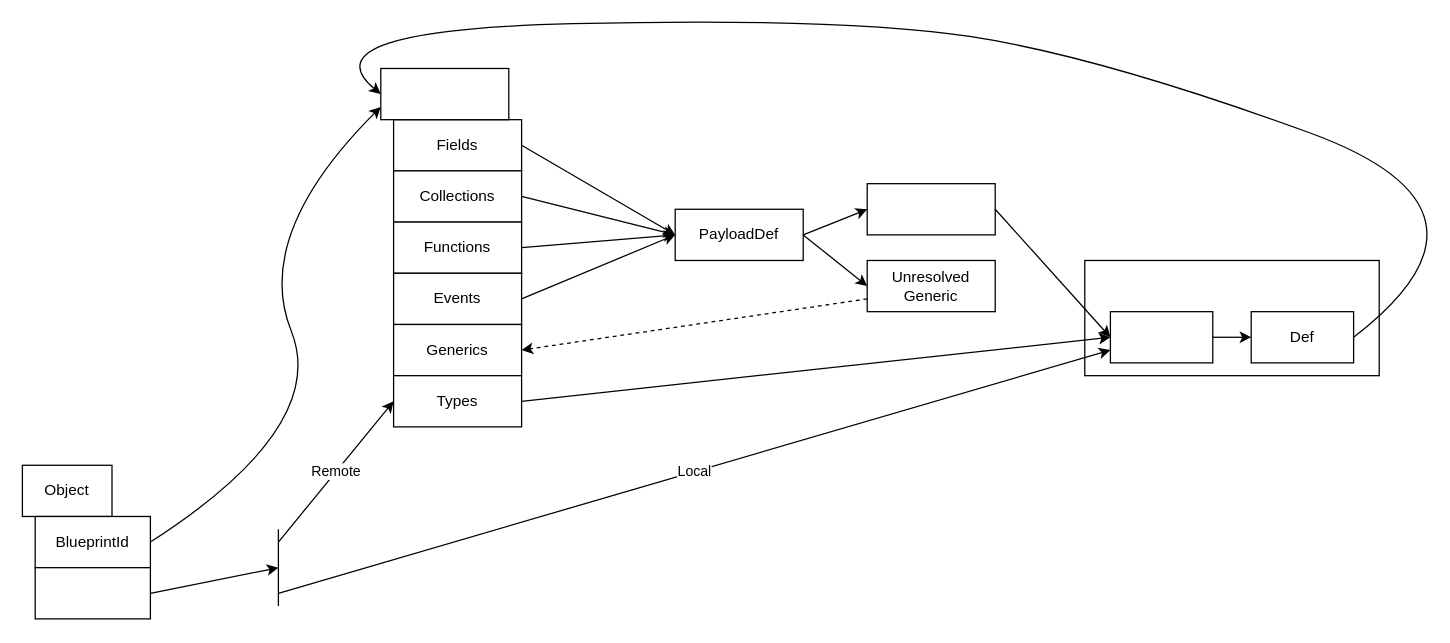
Some shapes in this 1450 by 643 pixel diagram are drawn without their labels. The box of each missing label's shape, as (x1, y1, x2, y2) in pixels:
Blueprint: (380, 67, 509, 120)
Generic Substitutions: (34, 566, 150, 619)
Index: (1109, 310, 1213, 363)
Resolved: (866, 182, 995, 235)
Scrypto Schema: (1084, 259, 1379, 376)
